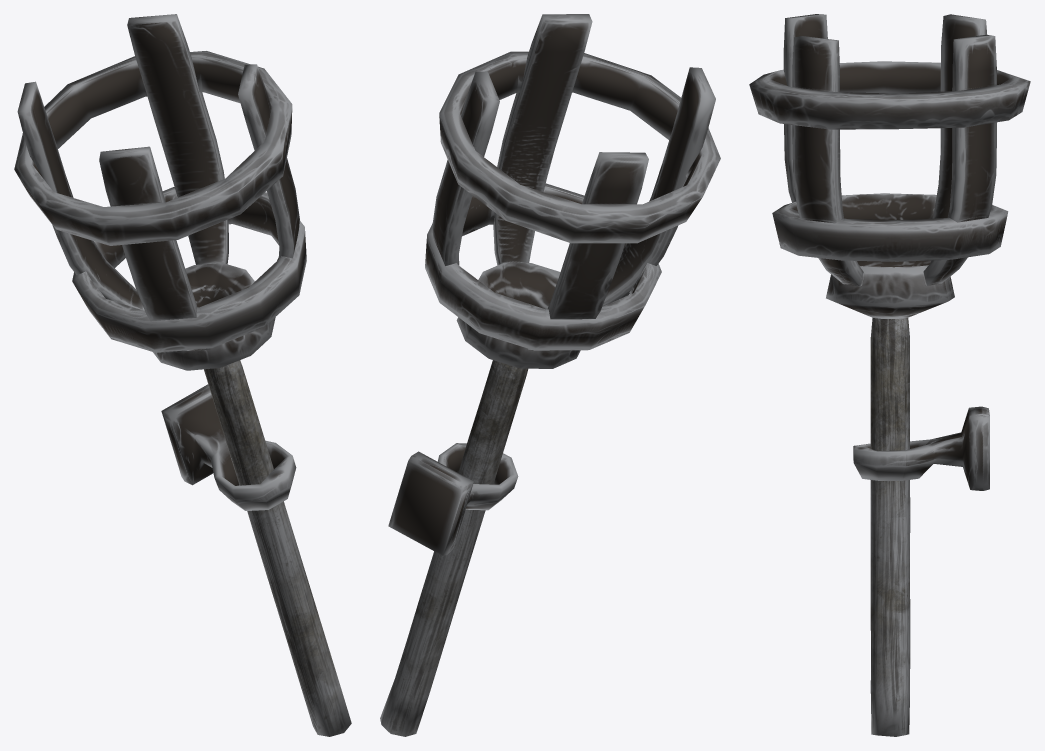
File: Torch.fbx
The picture shows the model from 3 angles, left to right: view 1: azimuth 30°, elevation 25°; view 2: azimuth 150°, elevation 25°; view 3: azimuth 270°, elevation 25°; orthographic projection. The views are drawn at different scales.
Visible parts, largest first — view 1: Torch; view 2: Torch; view 3: Torch.
Boxes of the visible parts, x1,y1,x2,y2 form: Torch: (14,14,351,736); Torch: (380,14,720,736); Torch: (749,14,1030,736).
Size of the model in its own units: 11.61 by 25.32 by 9.96.
